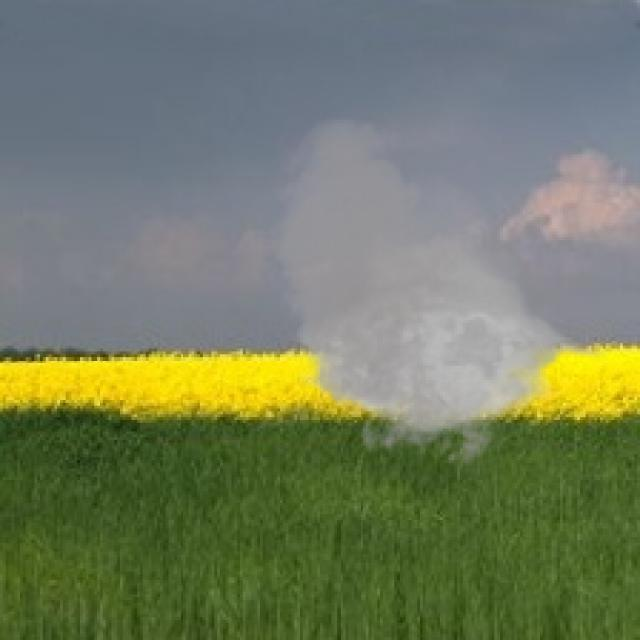smoke: (260, 112, 611, 477)
